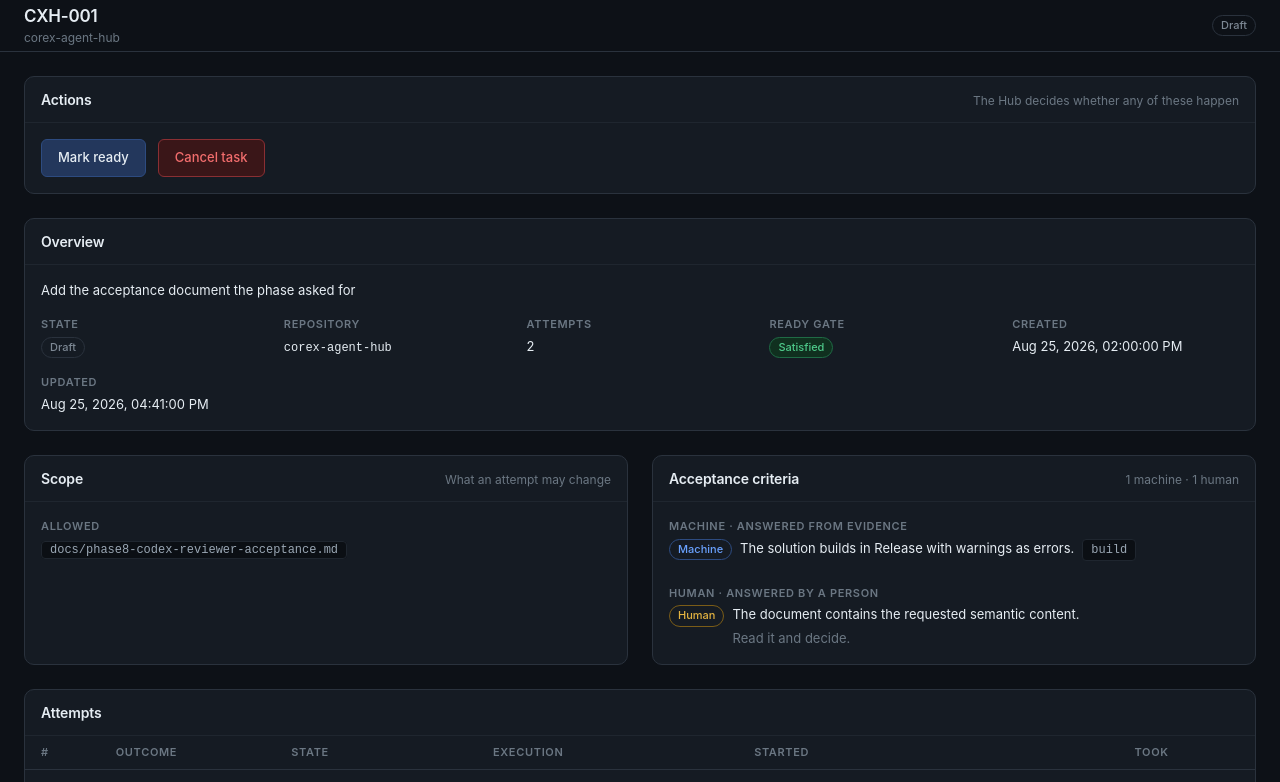
Scenario: Task actions › shows the Hub refusal when ready is rejected outright
This screenshot has width=1280, height=782.
Click the button "Mark ready" at [93, 158], box top-left (41, 139), bottom-right (146, 176)
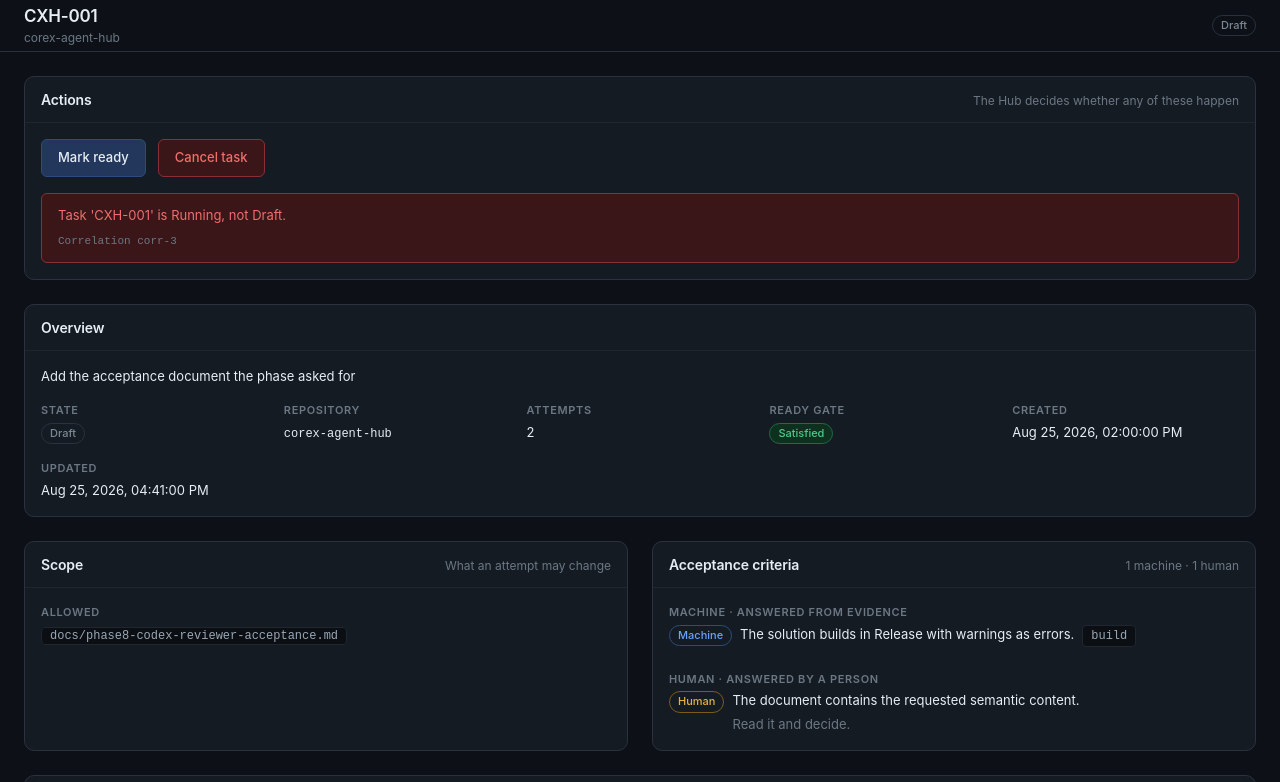
Expected: the message shows "Task 'CXH-001' is Running, not Draft.", top-left (58, 206), bottom-right (286, 222)
Expected: the message shows "corr-3", top-left (137, 235), bottom-right (177, 247)
